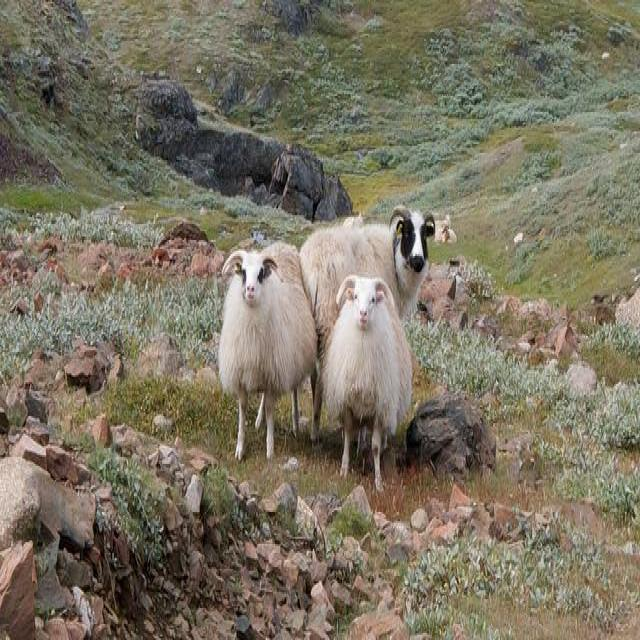Sheep: (298, 203, 437, 441), (217, 240, 322, 466), (321, 268, 399, 494)
